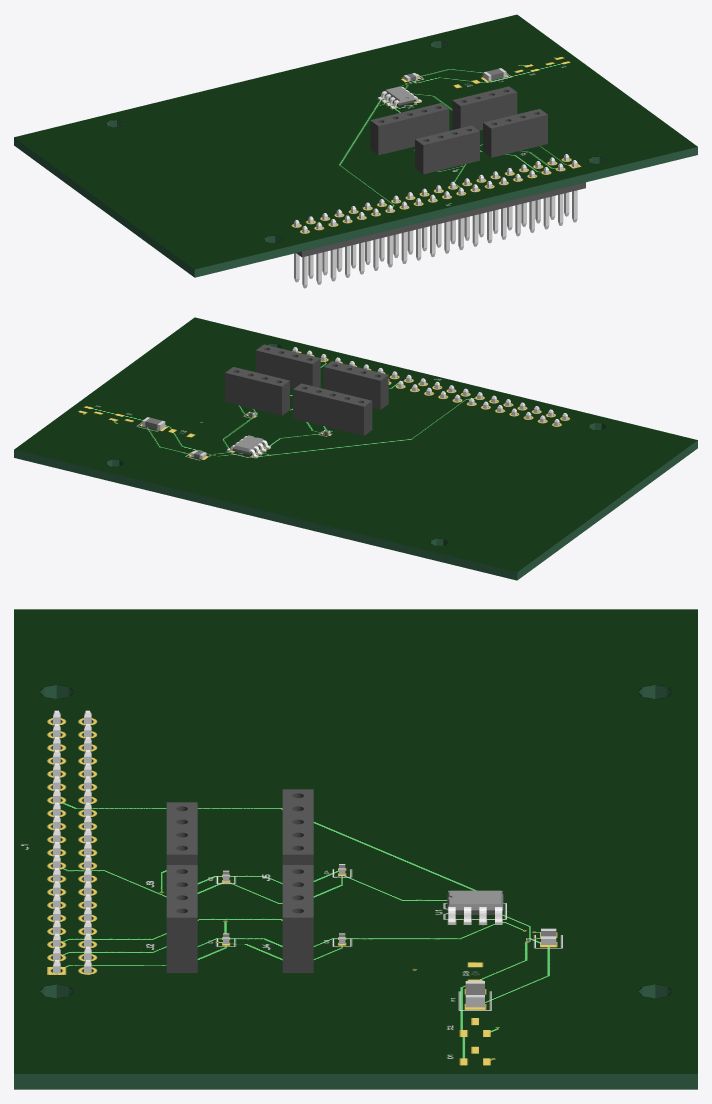
The model's file is t1-board.glb.
3 views of the same model, one above another, from view 1: azimuth 30°, elevation 25°; view 2: azimuth 150°, elevation 25°; view 3: azimuth 270°, elevation 25° (orthographic). The views are drawn at different scales.
Parts seen in each view (by area): view 1: Box0, J1, J5, J3, J2, J4, U1; view 2: Box0, J5, J4, J3, J2, J1, U1; view 3: Box0, J1, J2, J4, J5, J3, U1.
Boxes of the visible parts, bbox=[...] form: Box0: bbox=[14, 14, 697, 277]; J1: bbox=[294, 154, 585, 288]; J5: bbox=[370, 103, 449, 155]; J3: bbox=[415, 125, 479, 174]; J2: bbox=[483, 109, 547, 157]; J4: bbox=[452, 86, 517, 130]; U1: bbox=[378, 86, 421, 109]; Box0: bbox=[14, 317, 697, 580]; J5: bbox=[293, 383, 372, 435]; J4: bbox=[225, 367, 289, 415]; J3: bbox=[323, 361, 388, 409]; J2: bbox=[255, 344, 320, 388]; J1: bbox=[292, 347, 567, 425]; U1: bbox=[227, 435, 270, 458]; Box0: bbox=[14, 609, 697, 1089]; J1: bbox=[53, 710, 91, 973]; J2: bbox=[166, 865, 197, 972]; J4: bbox=[282, 865, 313, 972]; J5: bbox=[282, 789, 313, 864]; J3: bbox=[166, 802, 197, 864]; U1: bbox=[447, 890, 503, 924].
Bounding box in the file's own units: 90 × 14.6 × 56.
9 materials, 2 textured.
